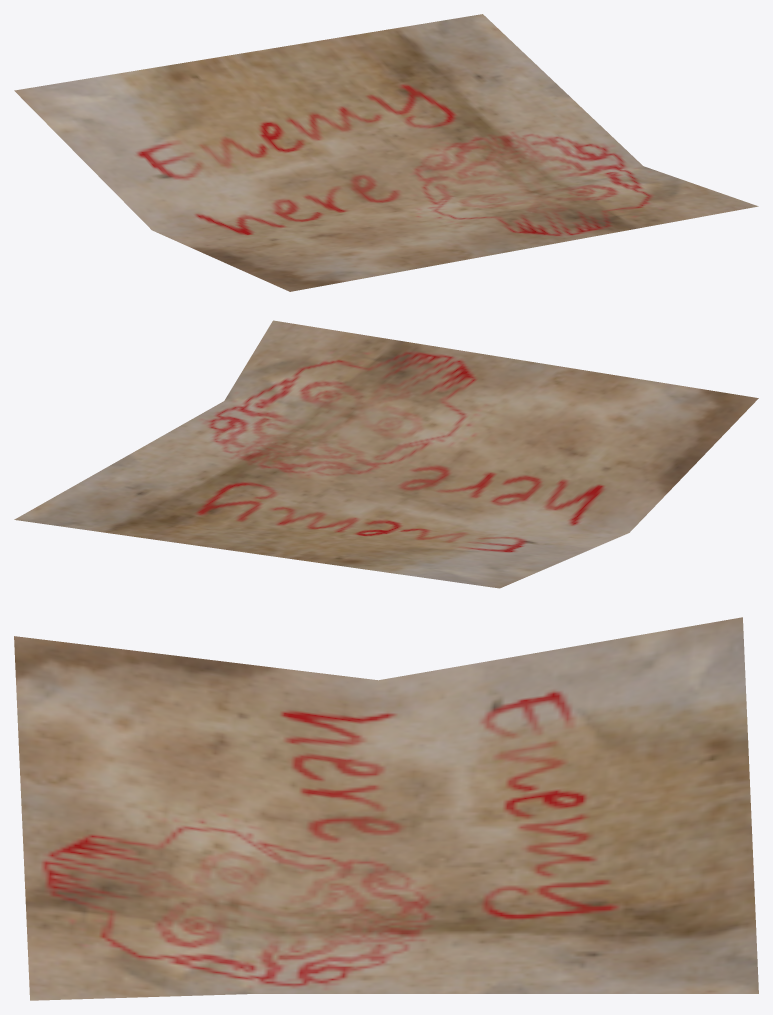
Rendered from Enemy.FBX.
3 views of the same model, one above another, from view 1: azimuth 30°, elevation 25°; view 2: azimuth 150°, elevation 25°; view 3: azimuth 270°, elevation 25° (orthographic). The views are drawn at different scales.
Parts seen in each view (by area): view 1: Enemy; view 2: Enemy; view 3: Enemy.
Part boxes in pixels (bbox=[...]): Enemy: bbox=[14, 14, 758, 291]; Enemy: bbox=[14, 320, 758, 588]; Enemy: bbox=[14, 617, 758, 1000].
Bounding box in the file's own units: 12.44 × 1.35 × 12.09.
